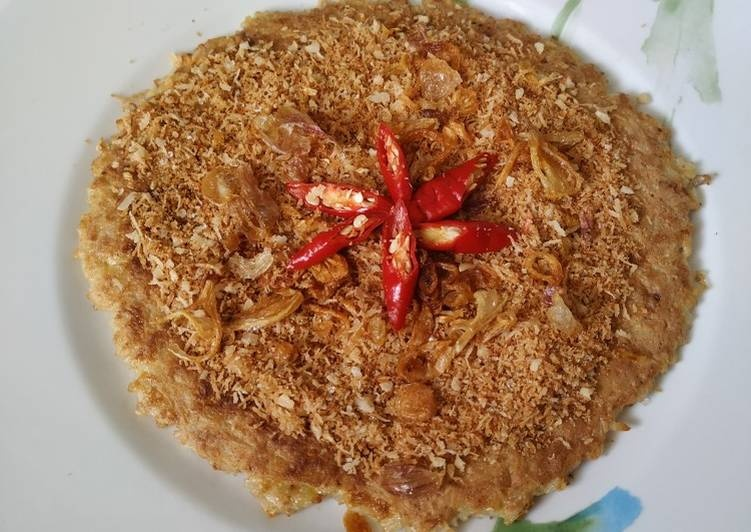kerak_telor: (75, 3, 704, 529)
